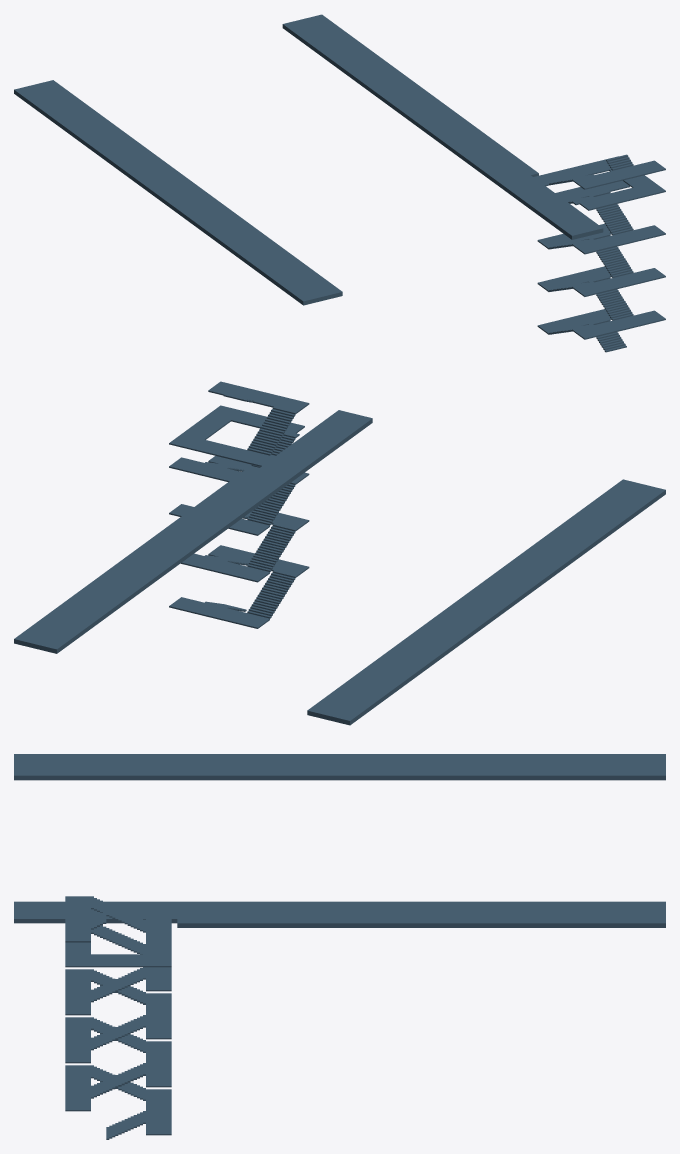
Rendered from v02-01-06-deck.glb.
3 views of the same model, one above another, from view 1: azimuth 30°, elevation 25°; view 2: azimuth 150°, elevation 25°; view 3: azimuth 270°, elevation 25° (orthographic). The views are drawn at different scales.
Parts seen in each view (by area): view 1: v02-01-06-deck; view 2: v02-01-06-deck; view 3: v02-01-06-deck.
Part boxes in pixels (bbox=[...]): v02-01-06-deck: bbox=[14, 14, 665, 352]; v02-01-06-deck: bbox=[14, 381, 665, 725]; v02-01-06-deck: bbox=[14, 754, 665, 1139].
Bounding box in the file's own units: 58.8 × 28.12 × 76.5.
